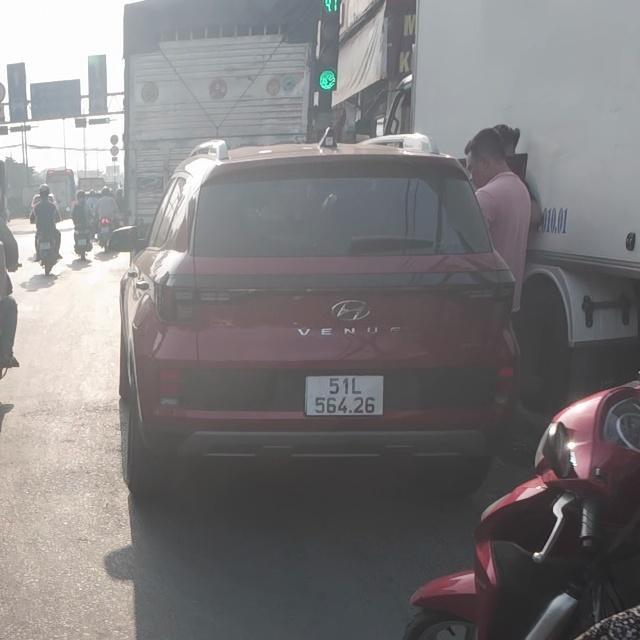car: (117, 142, 516, 506)
plate: (300, 373, 392, 423)
